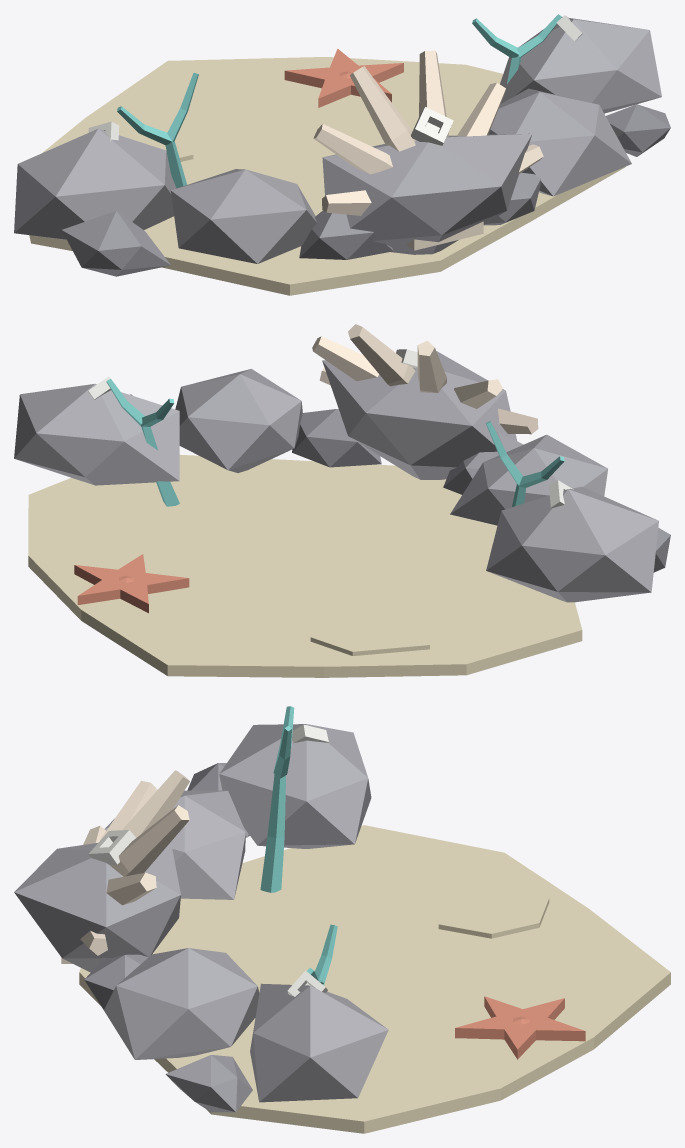
File: Pinch_Seat.fbx
3 views of the same model, one above another, from view 1: azimuth 30°, elevation 25°; view 2: azimuth 150°, elevation 25°; view 3: azimuth 270°, elevation 25° (orthographic). The views are drawn at different scales.
Visible parts, largest first — view 1: PinchSeat_Rocks_Rock, PinchSeat_SandBed_Sand, PinchSeat_RocksDark_RockDark, PinchSeat_Fan_Underside, PinchSeat_Coral_Coral, PinchSeat_Starfish_Starfish, PinchSeat_Crust_Barnacle; view 2: PinchSeat_SandBed_Sand, PinchSeat_Rocks_Rock, PinchSeat_Fan_Underside, PinchSeat_RocksDark_RockDark, PinchSeat_Starfish_Starfish, PinchSeat_Coral_Coral, PinchSeat_Crust_Barnacle; view 3: PinchSeat_SandBed_Sand, PinchSeat_Rocks_Rock, PinchSeat_Fan_Underside, PinchSeat_RocksDark_RockDark, PinchSeat_Starfish_Starfish, PinchSeat_Coral_Coral, PinchSeat_Crust_Barnacle.
Boxes of the visible parts, left/top/right/bottom form: PinchSeat_Rocks_Rock: left=14, top=17, right=661, bottom=263; PinchSeat_SandBed_Sand: left=29, top=57, right=625, bottom=295; PinchSeat_RocksDark_RockDark: left=62, top=104, right=670, bottom=276; PinchSeat_Fan_Underside: left=313, top=50, right=543, bottom=250; PinchSeat_Coral_Coral: left=117, top=14, right=561, bottom=188; PinchSeat_Starfish_Starfish: left=284, top=48, right=403, bottom=107; PinchSeat_Crust_Barnacle: left=88, top=15, right=582, bottom=145; PinchSeat_SandBed_Sand: left=28, top=455, right=582, bottom=677; PinchSeat_Rocks_Rock: left=14, top=351, right=658, bottom=602; PinchSeat_Fan_Underside: left=312, top=324, right=538, bottom=434; PinchSeat_RocksDark_RockDark: left=130, top=394, right=670, bottom=572; PinchSeat_Starfish_Starfish: left=74, top=554, right=189, bottom=613; PinchSeat_Coral_Coral: left=106, top=378, right=564, bottom=506; PinchSeat_Crust_Barnacle: left=88, top=349, right=573, bottom=508; PinchSeat_SandBed_Sand: left=79, top=825, right=670, bottom=1133; PinchSeat_Rocks_Rock: left=14, top=724, right=388, bottom=1102; PinchSeat_Fan_Underside: left=61, top=770, right=189, bottom=963; PinchSeat_RocksDark_RockDark: left=84, top=763, right=252, bottom=1112; PinchSeat_Starfish_Starfish: left=455, top=996, right=585, bottom=1059; PinchSeat_Coral_Coral: left=260, top=706, right=337, bottom=985; PinchSeat_Crust_Barnacle: left=89, top=724, right=328, bottom=996.
Size of the model in its own units: 10.67 by 2.89 by 8.78.
